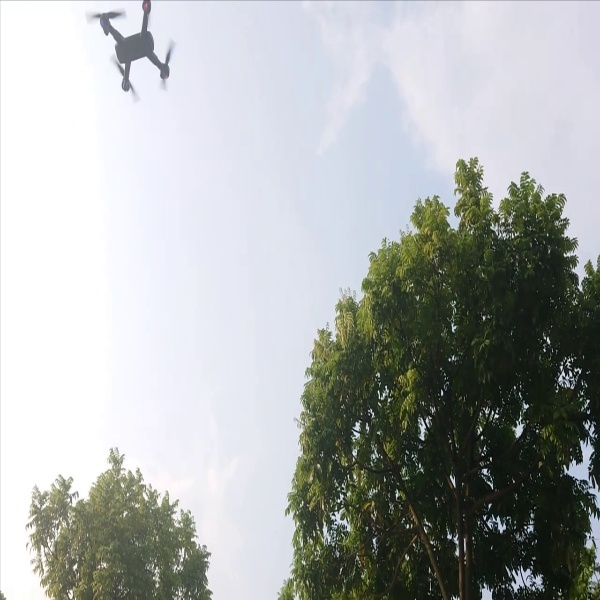drone: (90, 1, 188, 104)
